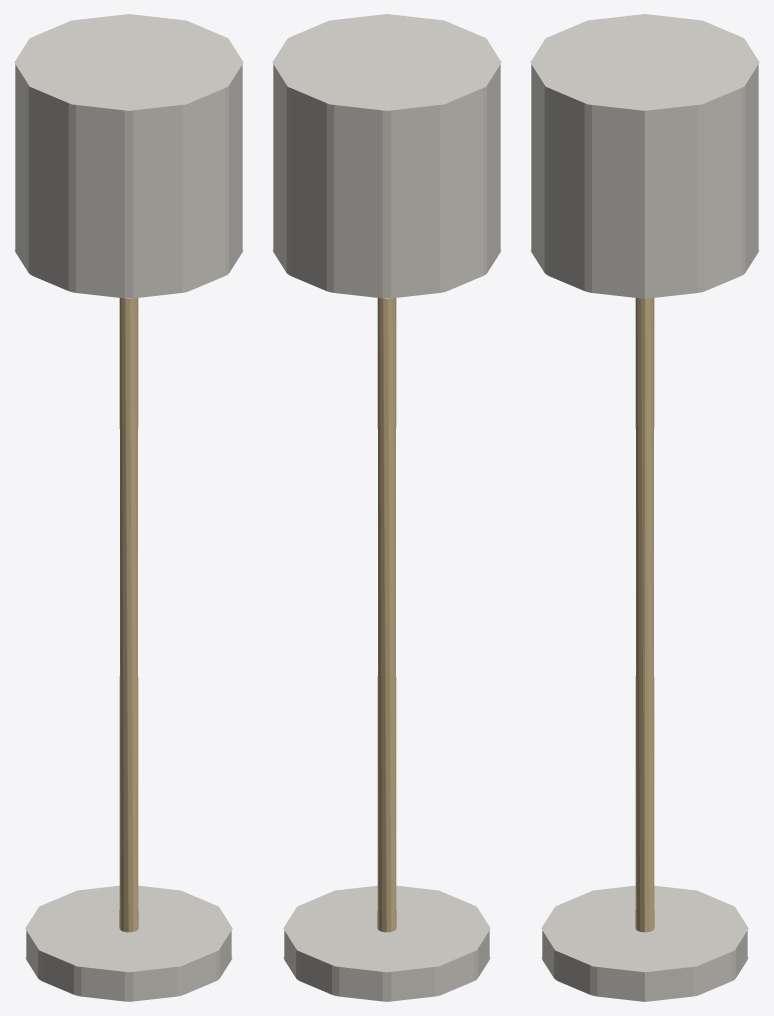
File: floor_lamp.glb
3 renders of one model, left to right at view 1: azimuth 30°, elevation 25°; view 2: azimuth 150°, elevation 25°; view 3: azimuth 270°, elevation 25°, orthographic.
Parts seen in each view (by area): view 1: floor_lamp_ivory_2, floor_lamp_stone_0, floor_lamp_brass_1; view 2: floor_lamp_ivory_2, floor_lamp_stone_0, floor_lamp_brass_1; view 3: floor_lamp_ivory_2, floor_lamp_stone_0, floor_lamp_brass_1.
Boxes of the visible parts, <box> form: floor_lamp_ivory_2: <box>14,14,243,298</box>; floor_lamp_stone_0: <box>25,885,232,1001</box>; floor_lamp_brass_1: <box>119,298,138,932</box>; floor_lamp_ivory_2: <box>272,14,501,298</box>; floor_lamp_stone_0: <box>283,885,490,1001</box>; floor_lamp_brass_1: <box>377,298,396,932</box>; floor_lamp_ivory_2: <box>530,14,759,298</box>; floor_lamp_stone_0: <box>541,885,748,1001</box>; floor_lamp_brass_1: <box>635,298,654,932</box>.
Bounding box in the file's own units: 0.42 × 1.81 × 0.42.
